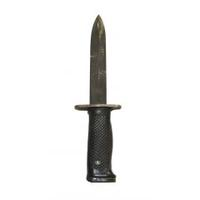knife: (71, 9, 128, 185)
